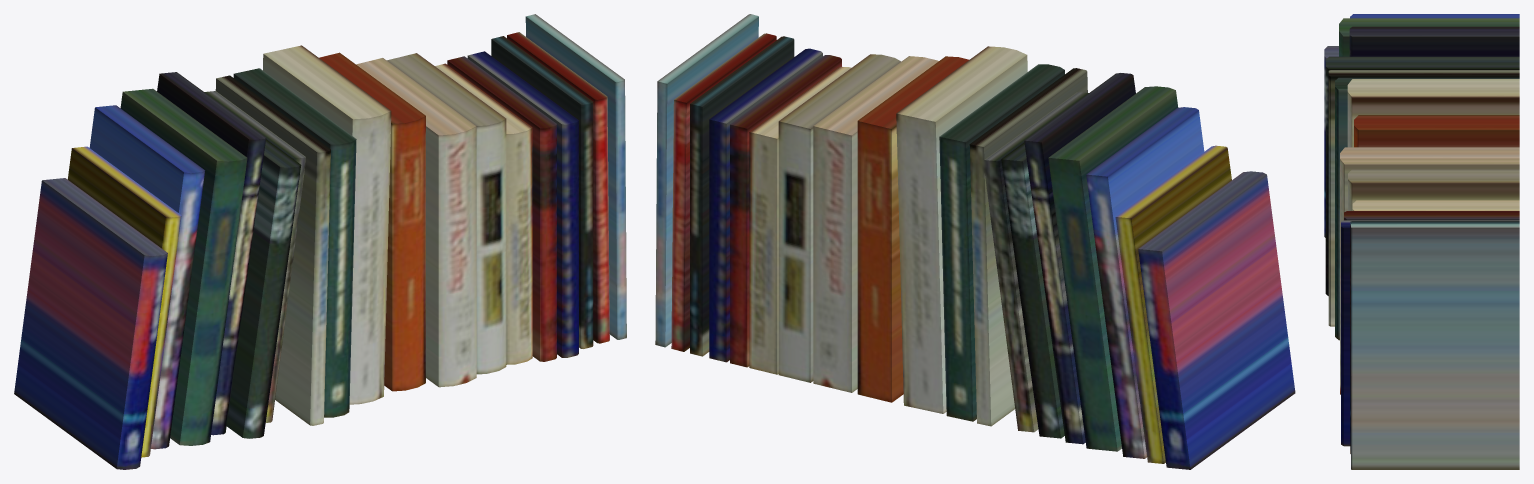
File: Books1.FBX
3 views of the same model, side by side, from view 1: azimuth 30°, elevation 25°; view 2: azimuth 150°, elevation 25°; view 3: azimuth 270°, elevation 25° (orthographic). The views are drawn at different scales.
Visible parts, largest first — view 1: Books1; view 2: Books1; view 3: Books1.
Boxes of the visible parts, bbox=[...] form: Books1: bbox=[14, 14, 626, 469]; Books1: bbox=[655, 14, 1295, 469]; Books1: bbox=[1324, 14, 1519, 469].
Bounding box in the file's own units: 1397 × 483 × 741.
1 material, 1 textured.
